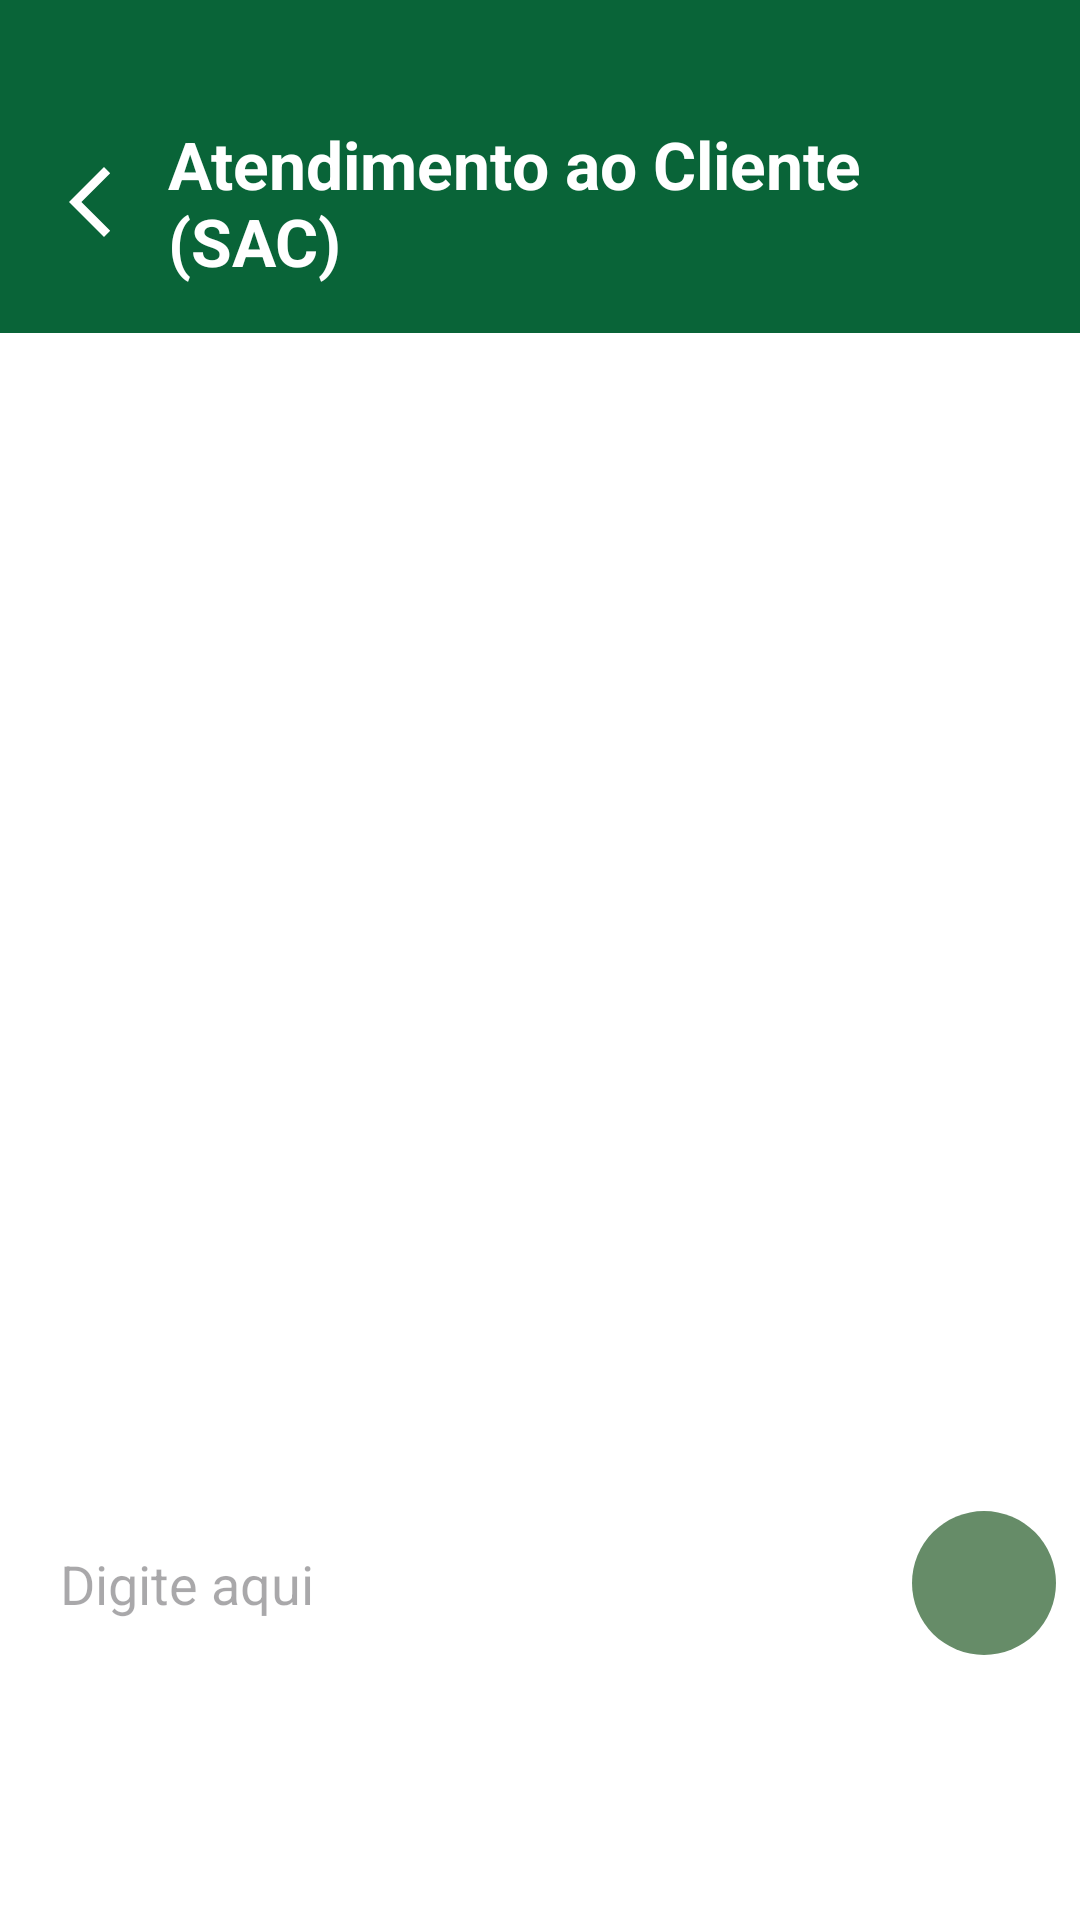

Named icons in this screenshot (1080*1920) and their centers, [x,y]:
Voltar: [89,202]
